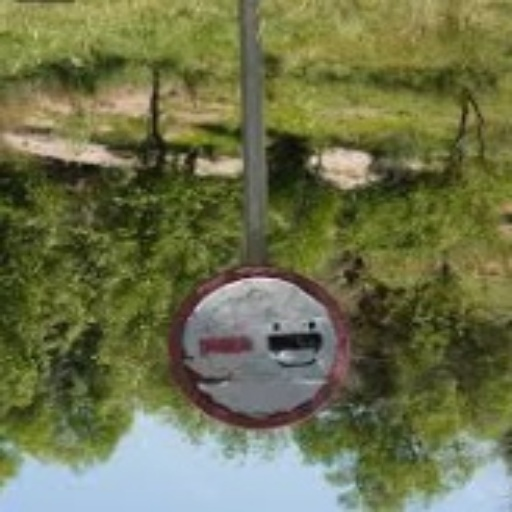No overtake: (156, 249, 376, 441)
